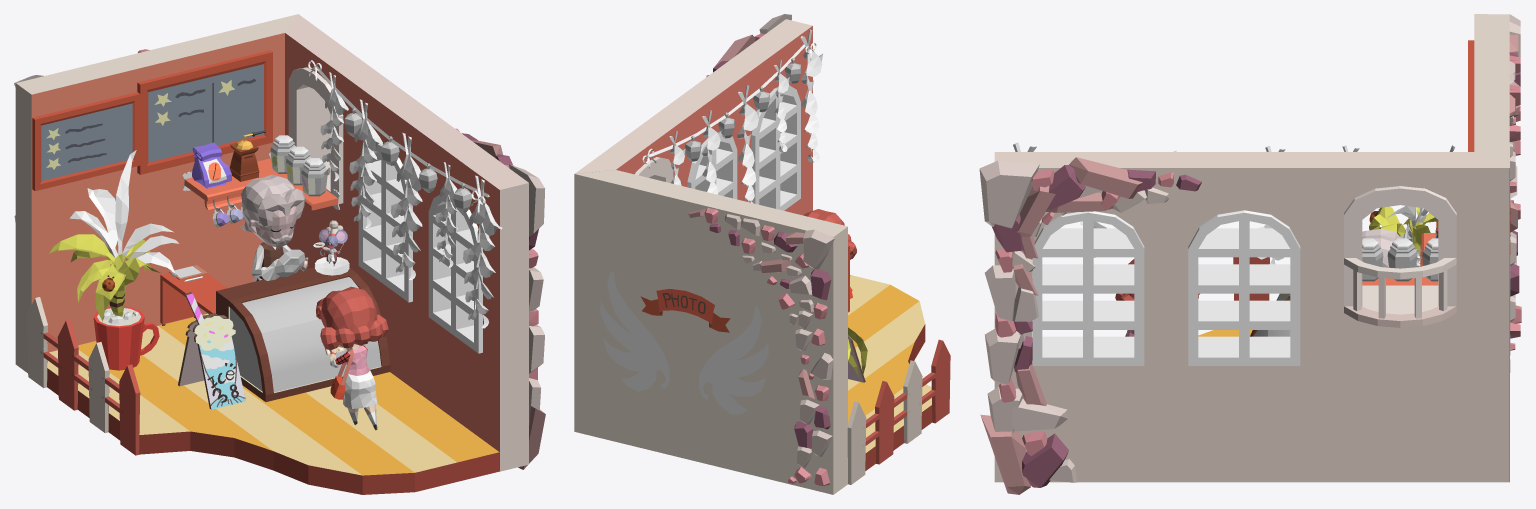
File: 0035_aPieceOfParadice.fbx
3 views of the same model, side by side, from view 1: azimuth 30°, elevation 25°; view 2: azimuth 150°, elevation 25°; view 3: azimuth 270°, elevation 25° (orthographic). The views are drawn at different scales.
Visible parts, largest first — view 1: Wall (×2), Plate, FrameB, WindowB (×2), CakeCounter_Glass, FrameA, Fence, CakeCounter, WindowA, sighn_Front, Manager_Head, Customer_Head (+16 smaller); view 2: Wall (×2), Plate, WindowB (×2), Fence, BrickA (×2), WindowA, String, BrickB, Customer_Head, BrickD; view 3: Wall (×2), WindowB (×2), WindowA, BrickA (×6), BrickD (×5), BrickB (×3), Plant4, Shelf, Manager_Head.
Part boxes in pixels (x1,y1,x2,y2): Wall (×2): (15,14,528,471); Plate: (47,313,499,494); FrameB: (137,50,272,174); WindowB (×2): (358,144,482,353); CakeCounter_Glass: (230,277,381,392); FrameA: (32,92,140,191); Fence: (27,297,140,455); CakeCounter: (216,267,390,401); WindowA: (288,67,343,203); sighn_Front: (185,292,245,409); Manager_Head: (240,174,304,247); Customer_Head: (316,286,388,350); Wall (×2): (574,19,847,494); Plate: (848,275,935,470); WindowB (×2): (687,85,800,210); Fence: (847,339,950,484); BrickA (×2): (803,229,834,379); WindowA: (634,157,673,182); String: (646,44,805,157); BrickB: (810,269,831,300); Customer_Head: (803,209,856,259); BrickD: (714,34,755,66); Wall (×2): (994,14,1510,482); WindowB (×2): (1032,210,1300,365); WindowA: (1344,186,1456,327); BrickA (×6): (979,160,1067,432); BrickD (×5): (980,157,1142,494); BrickB (×3): (992,165,1085,487); Plant4: (1369,206,1405,236); Shelf: (1362,233,1438,285); Manager_Head: (1362,229,1400,267).
Bounding box in the file's own units: 6.88 × 6.25 × 9.08.
